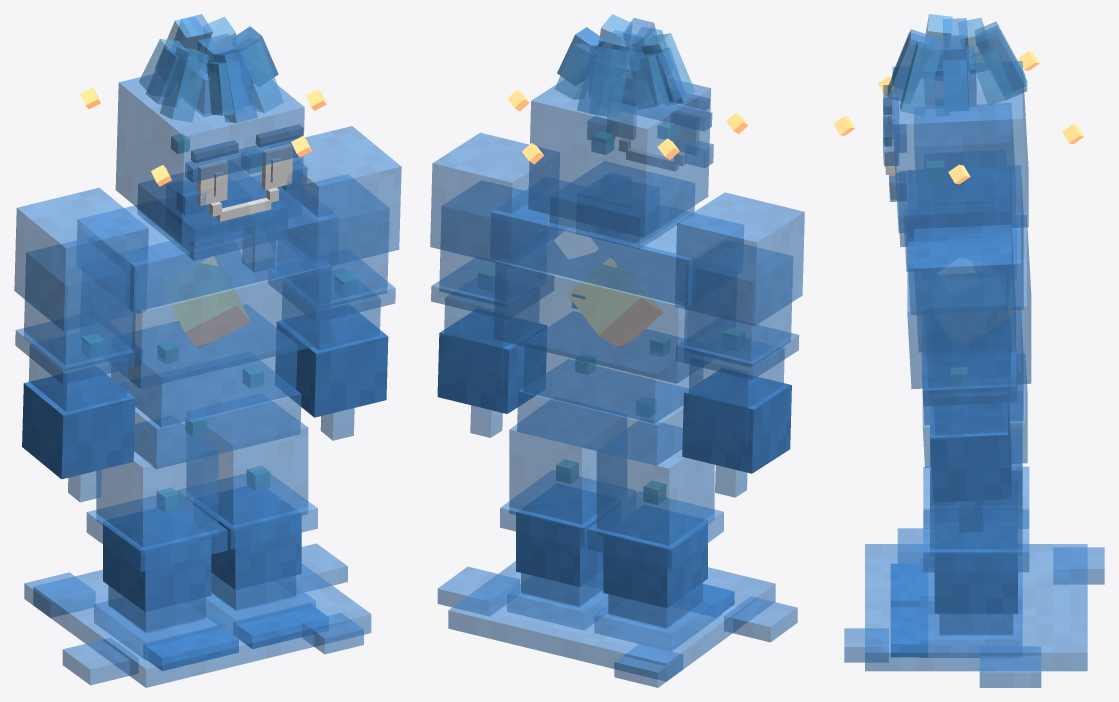
File: slime_base_v2_evo2.glb
3 views of the same model, side by side, from view 1: azimuth 30°, elevation 25°; view 2: azimuth 150°, elevation 25°; view 3: azimuth 270°, elevation 25° (orthographic). The views are drawn at different scales.
Parts seen in each view (by area): view 1: Torso, Head, ArmR, ArmL, Root, LegR, LegL; view 2: Torso, Head, ArmR, ArmL, Root, LegR, LegL; view 3: Head, ArmL, Root, LegL, Torso, ArmR, LegR.
Boxes of the visible parts, x1,y1,x2,y2 form: Torso: (77,175,338,469); Head: (80,14,326,272); ArmR: (14,188,148,502); ArmL: (268,126,401,440); Root: (24,543,371,687); LegR: (86,420,238,670); LegL: (177,401,327,648); Torso: (490,180,743,465); Head: (507,14,748,248); ArmR: (675,192,804,497); ArmL: (430,132,559,437); Root: (437,561,797,687); LegR: (587,420,734,650); LegL: (500,399,636,629); Head: (833,14,1084,271); ArmL: (914,224,1017,532); Root: (844,528,1104,687); LegL: (891,434,1029,657); Torso: (907,165,1031,467); ArmR: (914,103,1014,173); LegR: (891,421,1029,606).
Bounding box in the file's own units: 1.12 × 1.89 × 0.7927.
Materials: 19 (19 with a texture image).
